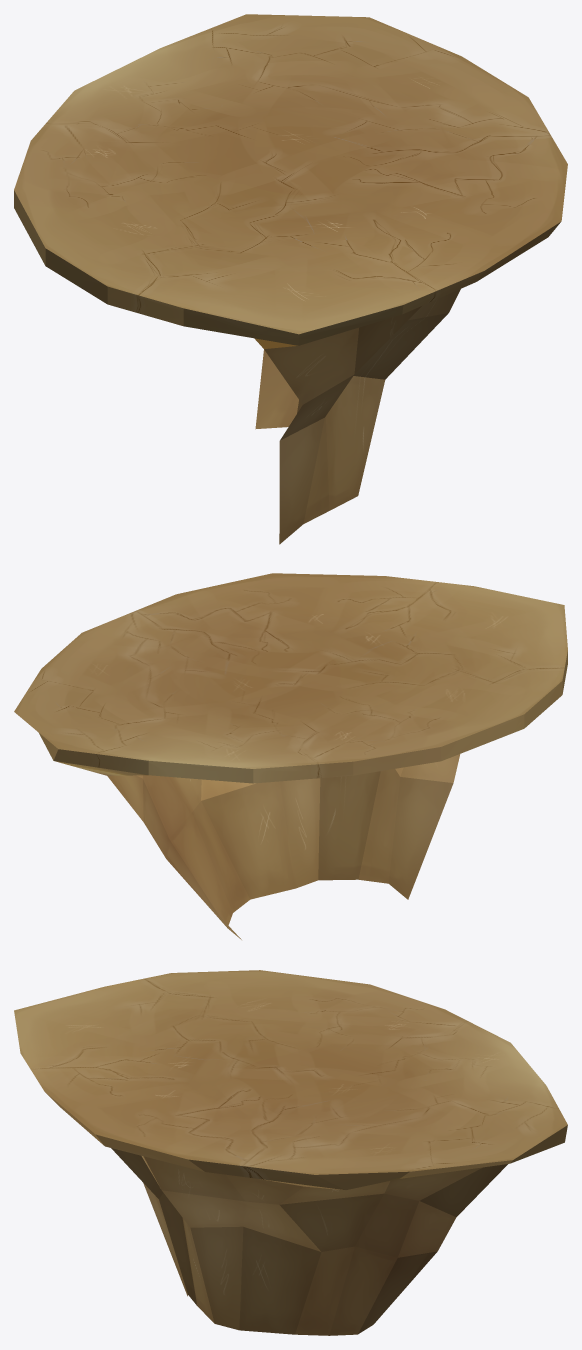
The model's file is ground.fbx.
3 views of the same model, one above another, from view 1: azimuth 30°, elevation 25°; view 2: azimuth 150°, elevation 25°; view 3: azimuth 270°, elevation 25° (orthographic). The views are drawn at different scales.
Visible parts, largest first — view 1: ground; view 2: ground; view 3: ground.
Boxes of the visible parts, left/top/right/bottom form: ground: left=14, top=14, right=567, bottom=544; ground: left=14, top=573, right=567, bottom=939; ground: left=14, top=970, right=567, bottom=1335.
Bounding box in the file's own units: 42.79 × 24.53 × 48.91.
